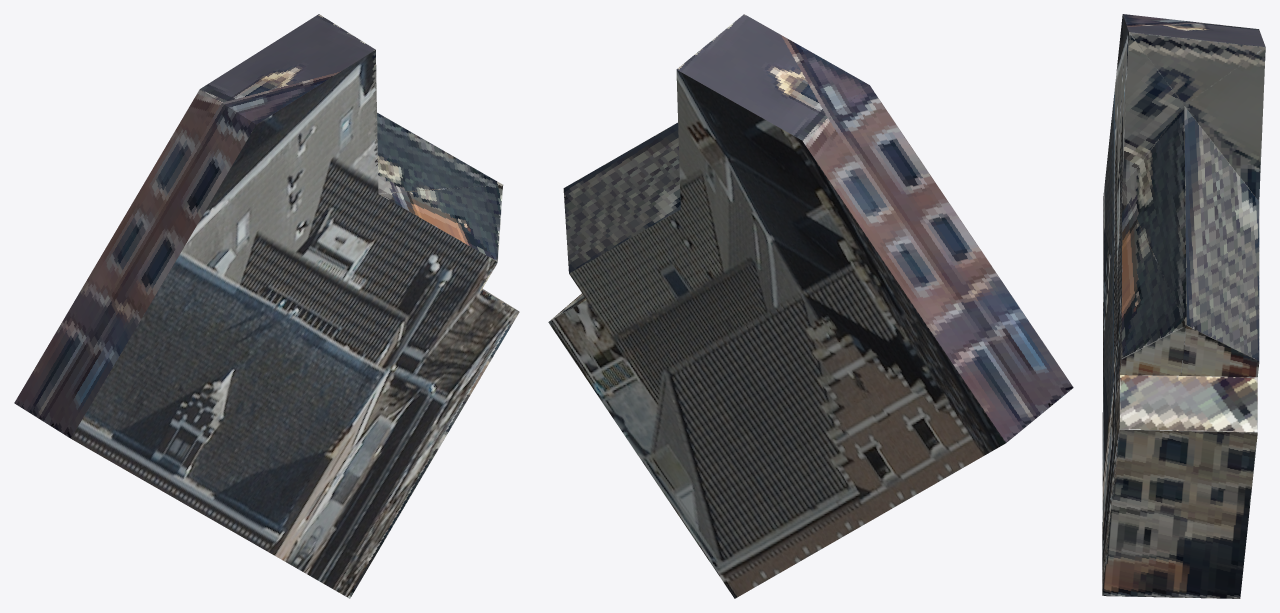
3 renders of one model, left to right at view 1: azimuth 30°, elevation 25°; view 2: azimuth 150°, elevation 25°; view 3: azimuth 270°, elevation 25°, orthographic. The views are drawn at different scales.
Visible parts, largest first — view 1: BAG_0599100000671727 (×2); view 2: BAG_0599100000671727 (×2); view 3: BAG_0599100000671727 (×3).
Part boxes in pixels (left/top/right/bottom): BAG_0599100000671727 (×2): left=14, top=14, right=519, bottom=598; BAG_0599100000671727 (×2): left=548, top=14, right=1073, bottom=598; BAG_0599100000671727 (×3): left=1102, top=14, right=1265, bottom=598.
Size of the model in its own units: 20.63 by 22.45 by 5.65.
3 materials, 3 textured.
